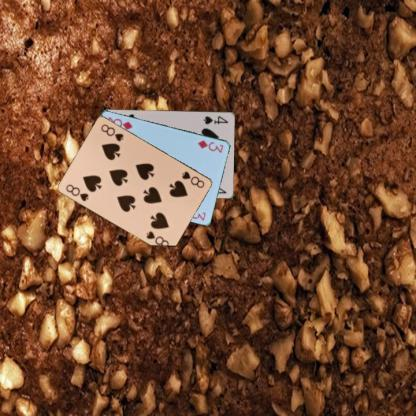3d: (195, 138, 225, 154)
4s: (201, 113, 229, 126)
8s: (180, 168, 206, 190), (64, 181, 90, 203)
